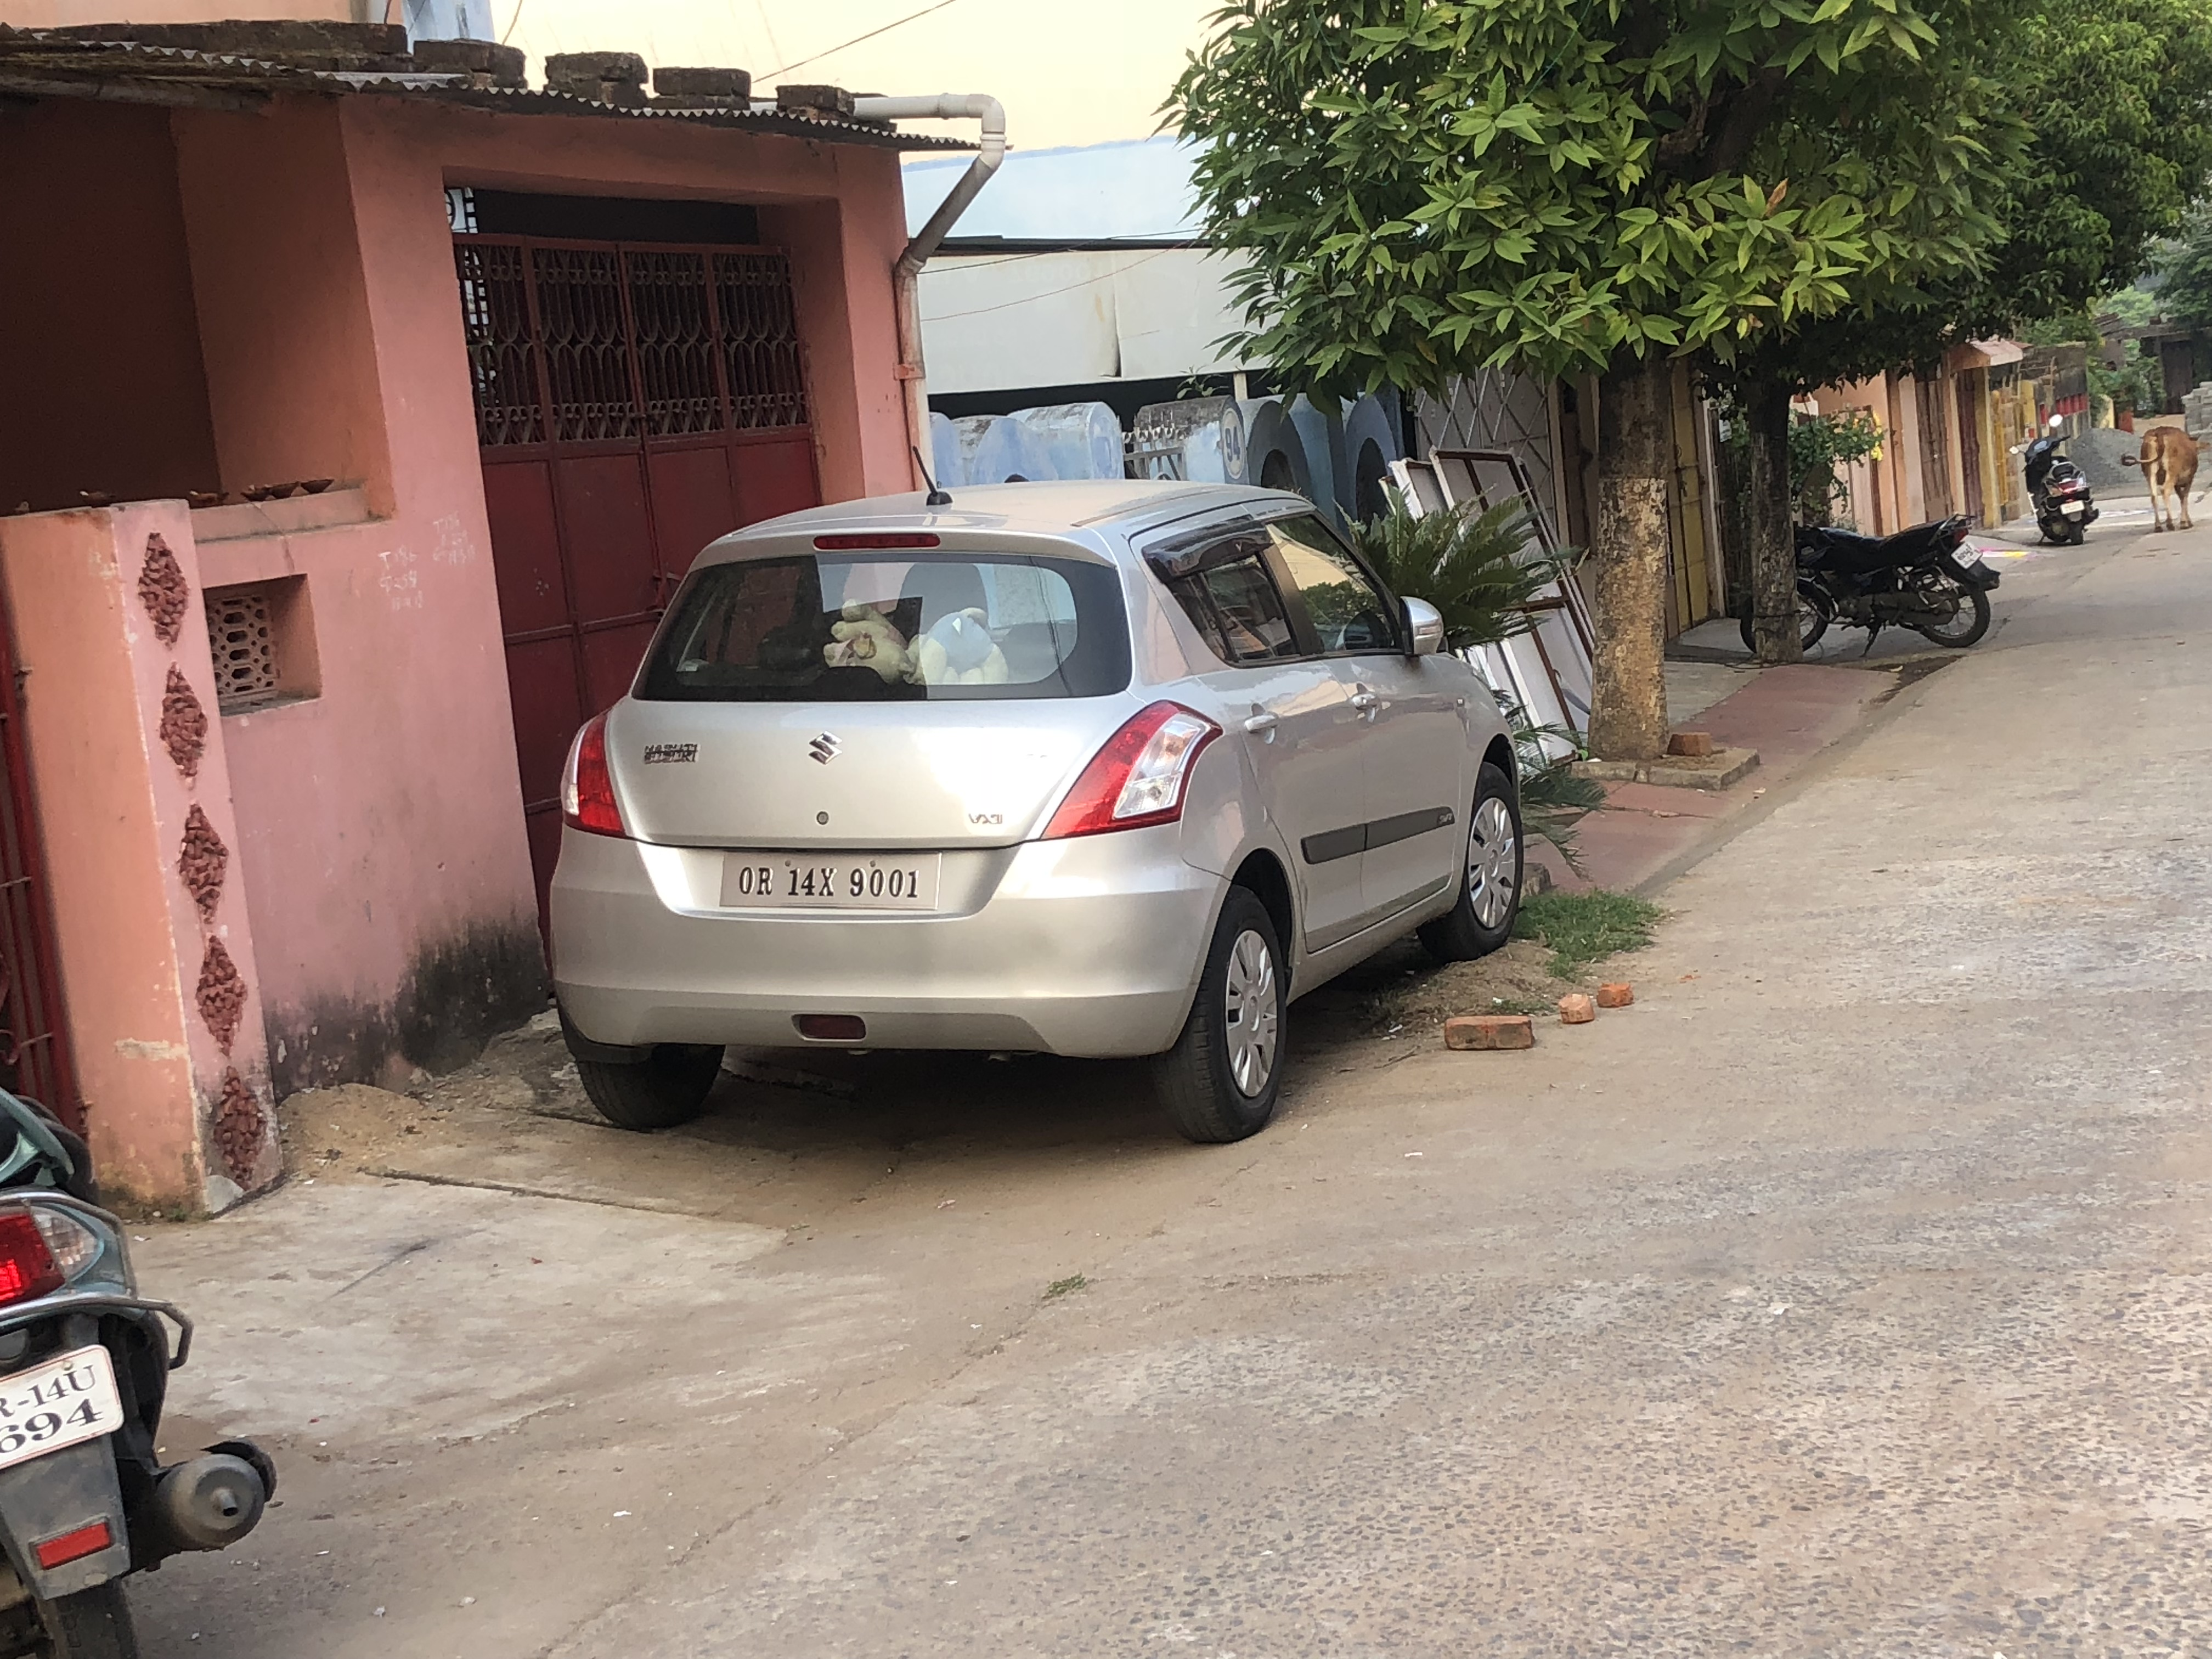licenseplate: (693, 836, 957, 930)
